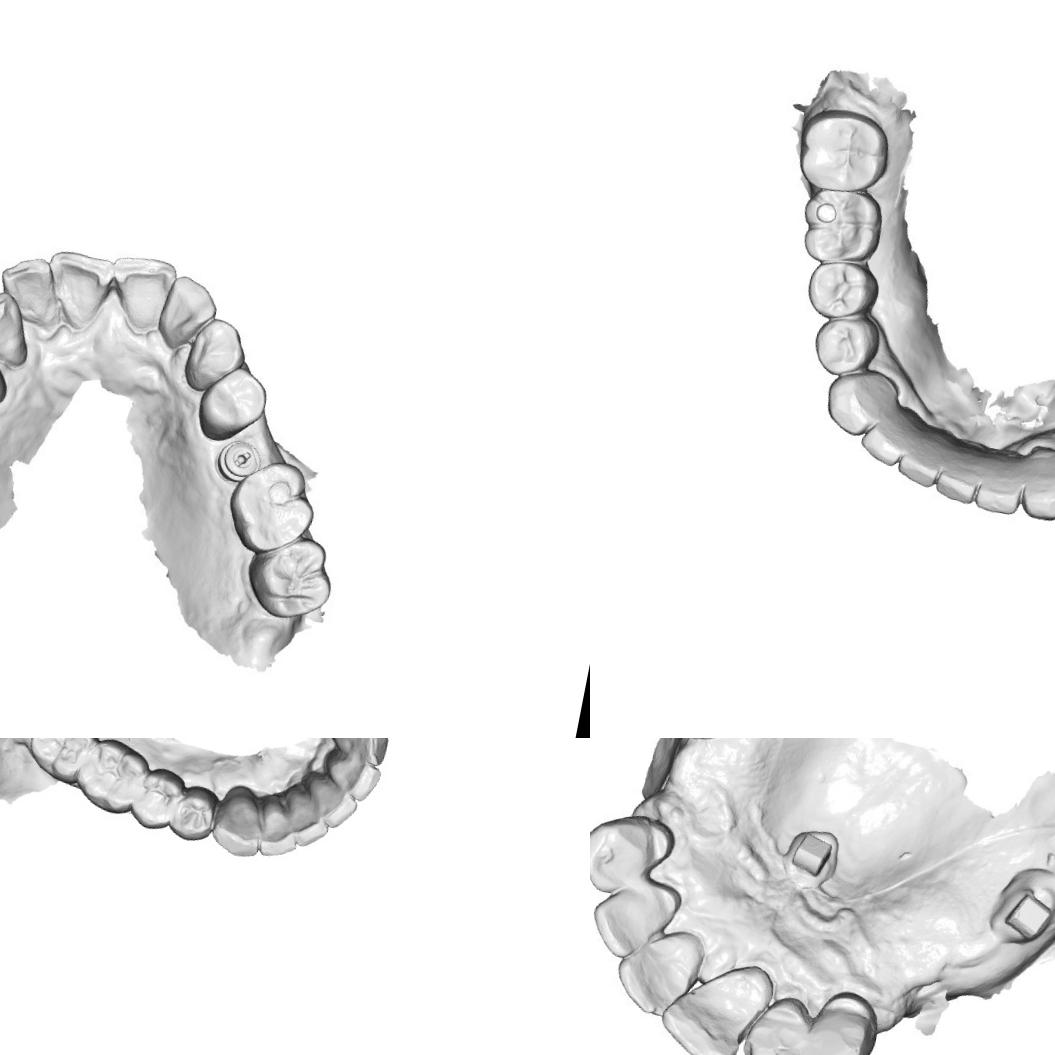canine: (590, 802, 675, 905), (793, 977, 890, 1055), (177, 312, 249, 398), (824, 366, 896, 439), (207, 780, 272, 860), (1013, 448, 1055, 529), (0, 286, 38, 368), (318, 738, 393, 767)
implant_minus: (210, 436, 266, 488)
incisor: (656, 952, 773, 1055), (606, 918, 708, 1026), (590, 868, 687, 970), (102, 249, 178, 336), (40, 243, 116, 330), (151, 270, 220, 354), (734, 986, 814, 1055), (0, 249, 59, 325), (296, 768, 363, 834), (277, 781, 336, 852), (316, 746, 386, 804), (255, 790, 306, 861), (891, 433, 947, 492), (928, 453, 986, 508), (968, 467, 1028, 520), (855, 418, 910, 469)
molar: (220, 452, 327, 562), (238, 526, 340, 630), (796, 103, 892, 196), (798, 183, 890, 273), (73, 738, 156, 820), (21, 738, 106, 790)
premolar: (189, 360, 273, 449), (806, 254, 878, 322), (125, 761, 189, 835), (812, 313, 879, 374), (164, 778, 222, 846)
